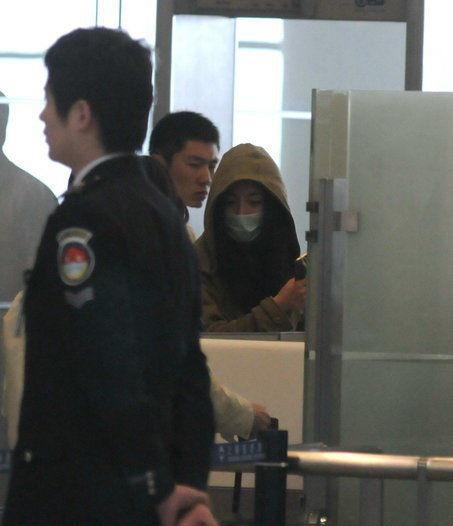NONE: (34, 82, 99, 167), (172, 155, 221, 210)
OK: (215, 185, 276, 246)
